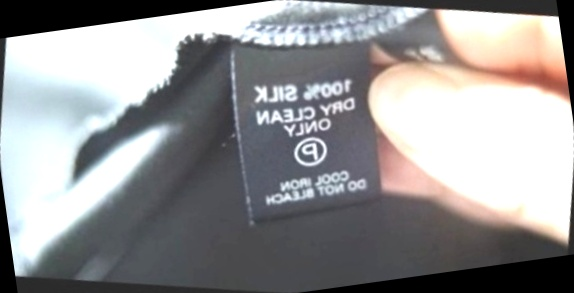dry_clean_any_solvent_except_trichloroethylene: (284, 126, 335, 176)
